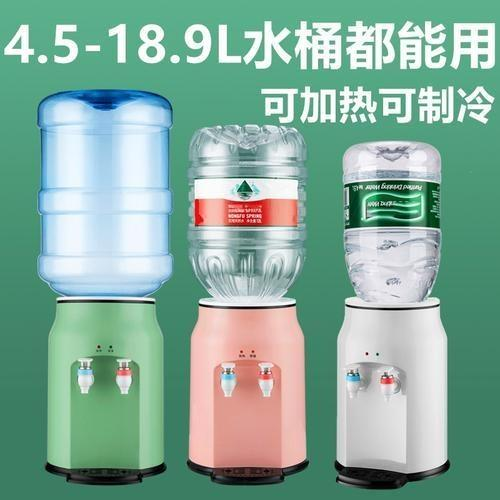Dispenser: (37, 88, 171, 485), (184, 124, 307, 483), (334, 140, 449, 489)
